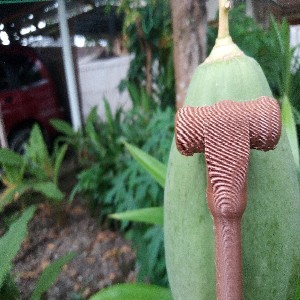palu: (174, 95, 281, 300)
